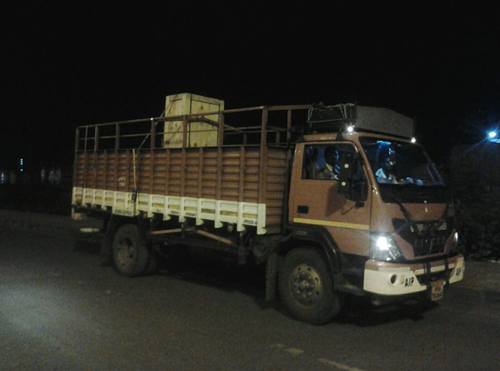truck: (79, 123, 463, 319)
